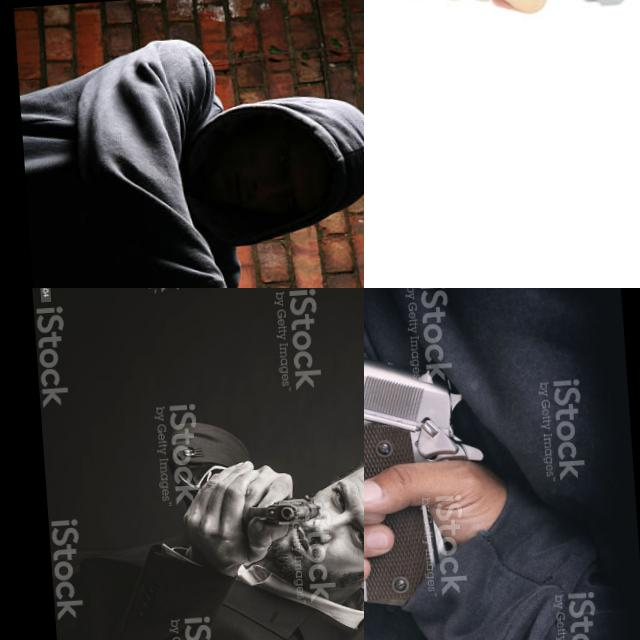handgun: (364, 325, 495, 624), (527, 0, 640, 60), (236, 491, 324, 533)
